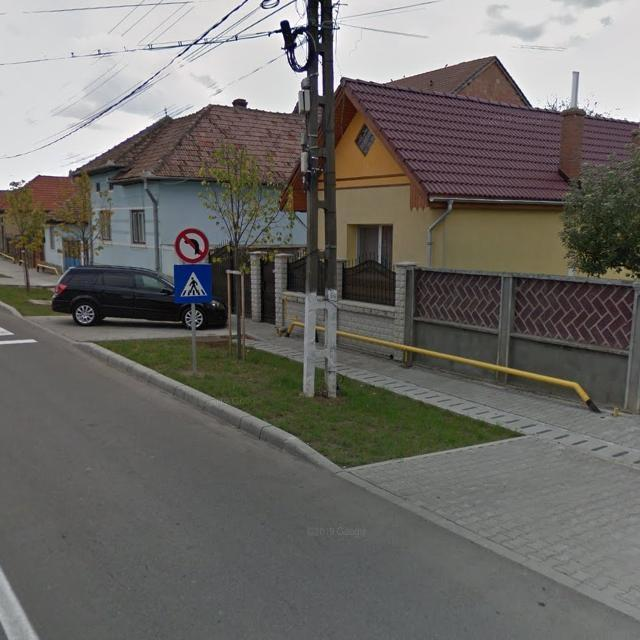info_crosswalk: (174, 263, 212, 302)
